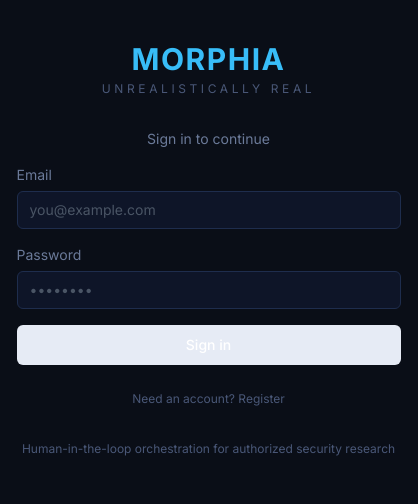
Test case: SignIn › shows a network-error message when the request itself fails
Type "researcher@example.com" into the field labelled "Email". click: (208, 210)
box: x1=16 y1=191 x2=400 y2=229
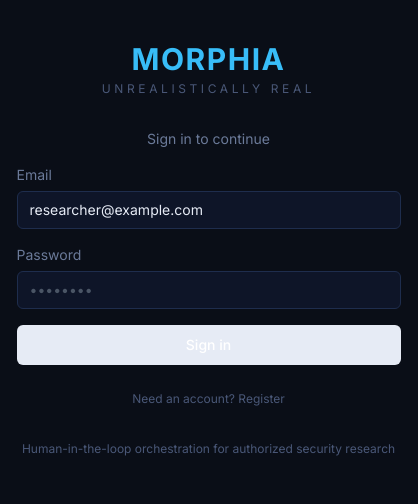
Type "correct-horse-battery" into the password field labelled "Password". click: (208, 290)
box: x1=16 y1=271 x2=400 y2=309
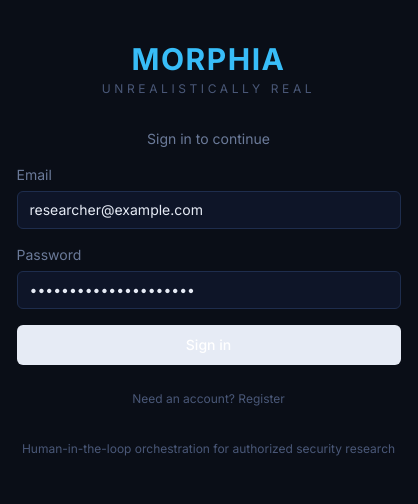
Click the button "Sign in". click: click(208, 345)
box: x1=16 y1=325 x2=400 y2=365
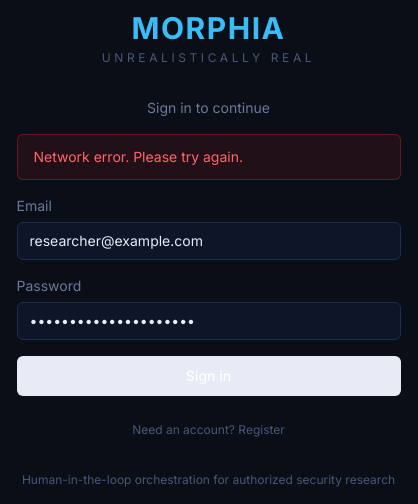
expect the text "Network error. Please try again." is shown: met, box x1=16 y1=134 x2=400 y2=180
